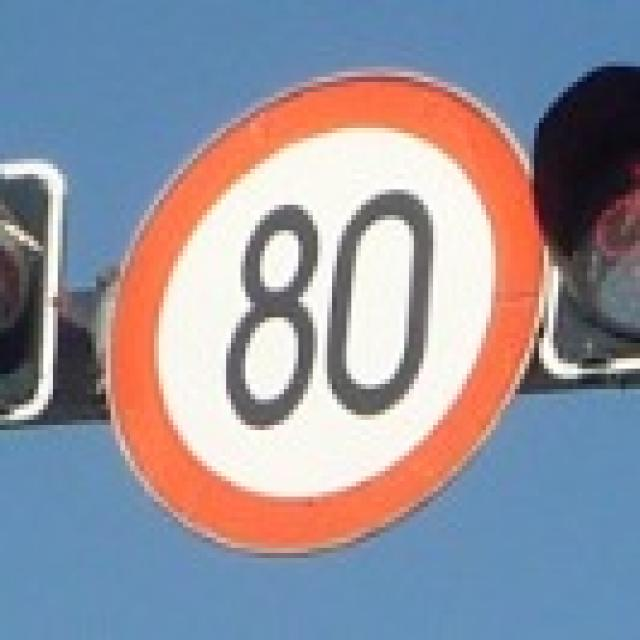Speed Limit -80-: (221, 188, 435, 432)
